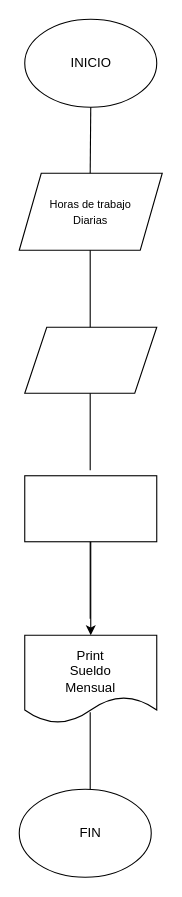
This 182x897 diagram has some shape labels left out. The centre of each missing label's shape, as x and y in pixels:
"Sueldo Mensual (Sueldo*Horas)*22" goes at pixel 90 508.
"Sueldo por hora" goes at pixel 90 359.
